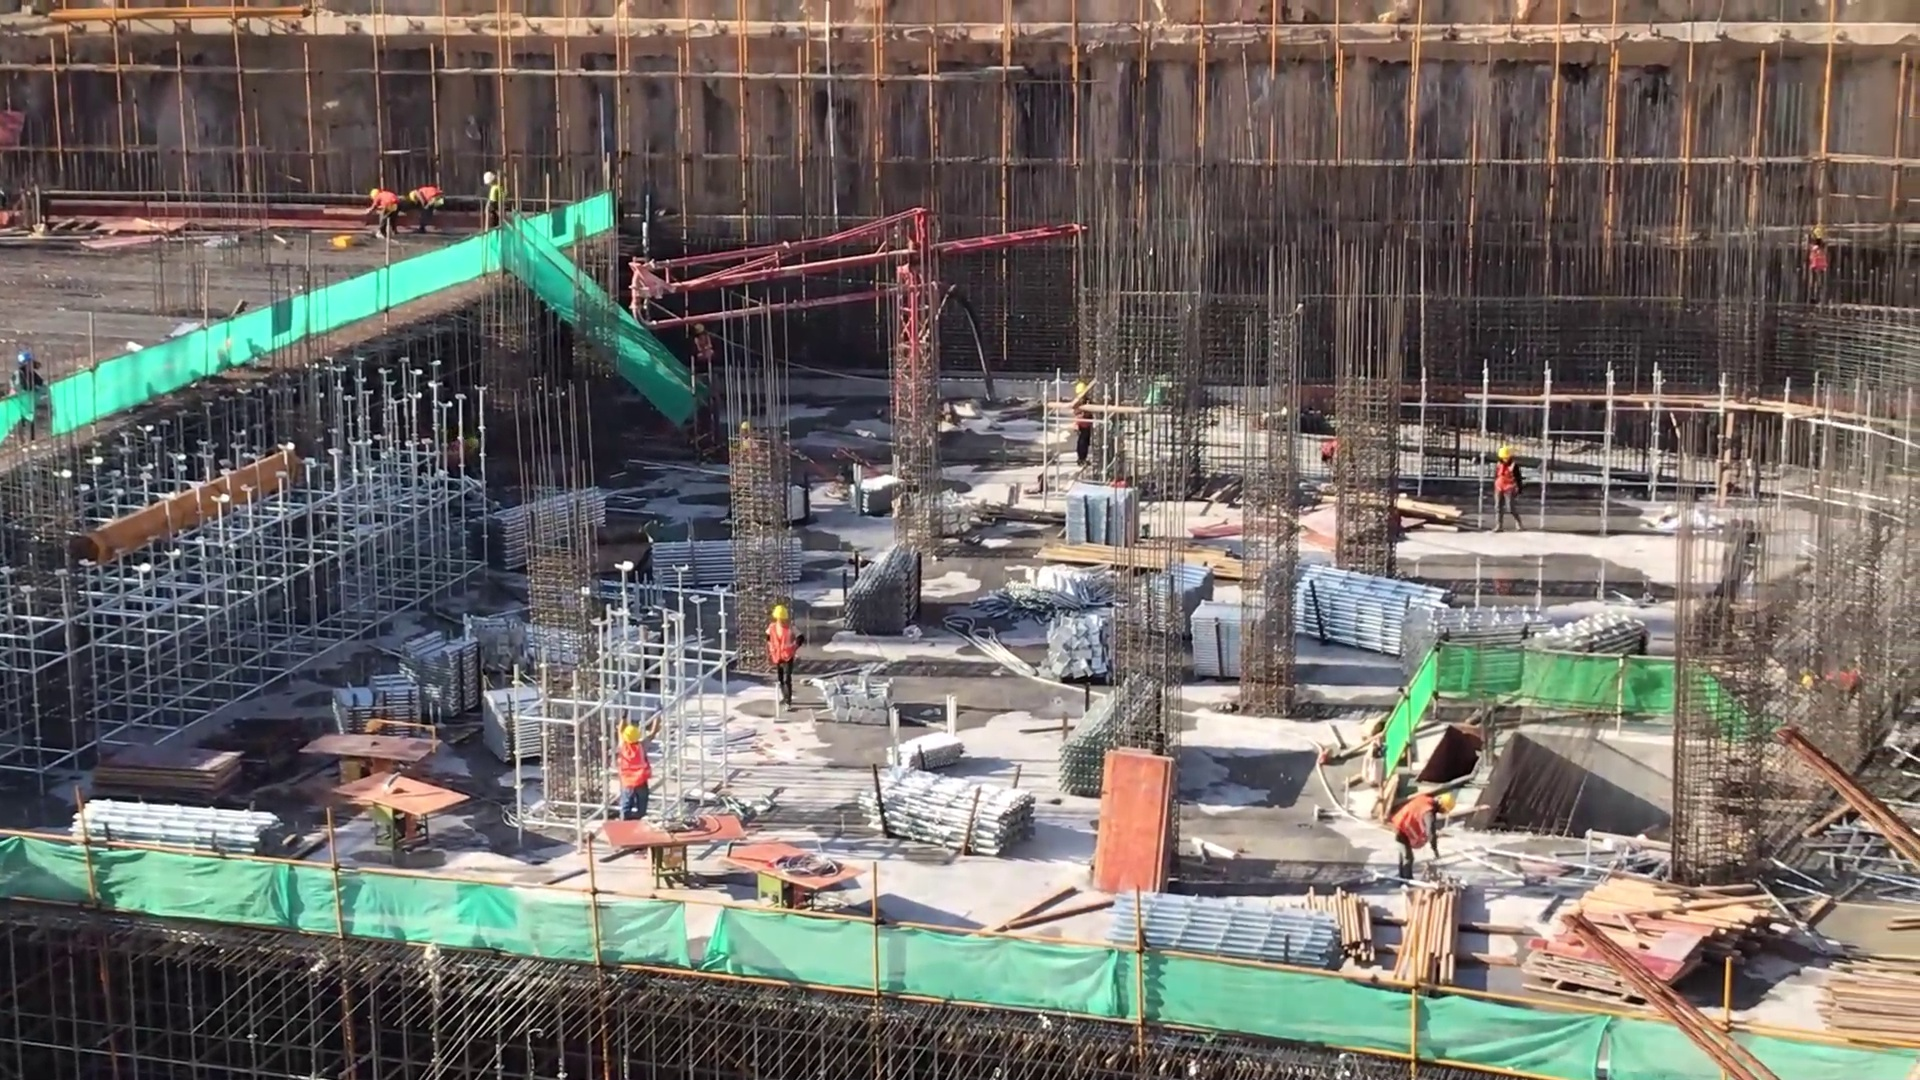board: (1512, 908, 1715, 997), (1087, 743, 1179, 897), (95, 744, 242, 809)
cutter: (337, 764, 477, 869), (595, 803, 755, 891), (722, 834, 870, 915), (295, 724, 442, 791)
helmet: (620, 720, 646, 756), (1434, 788, 1458, 819), (769, 598, 795, 625), (1492, 444, 1516, 465), (16, 350, 40, 369), (695, 319, 711, 340), (480, 169, 499, 185), (370, 183, 381, 199), (1077, 382, 1089, 394)
person: (1392, 786, 1464, 900), (610, 716, 660, 846), (6, 346, 55, 463), (762, 602, 801, 732), (1064, 374, 1106, 486), (358, 180, 404, 257), (473, 158, 511, 252), (1495, 437, 1525, 545), (680, 322, 723, 391), (408, 180, 448, 239)
scaffold: (1093, 887, 1368, 989), (1283, 558, 1455, 683), (851, 763, 1036, 862), (72, 797, 298, 877), (478, 475, 617, 574), (1524, 605, 1648, 713), (1399, 607, 1533, 700), (838, 533, 925, 642), (393, 625, 480, 724), (647, 539, 814, 590), (333, 677, 431, 754), (474, 682, 560, 768), (1135, 566, 1211, 646)
vest: (1394, 793, 1438, 855), (617, 741, 655, 792), (767, 619, 798, 667), (1491, 458, 1521, 503), (693, 336, 715, 366), (419, 186, 443, 210)
wood: (1801, 947, 1920, 1056)
